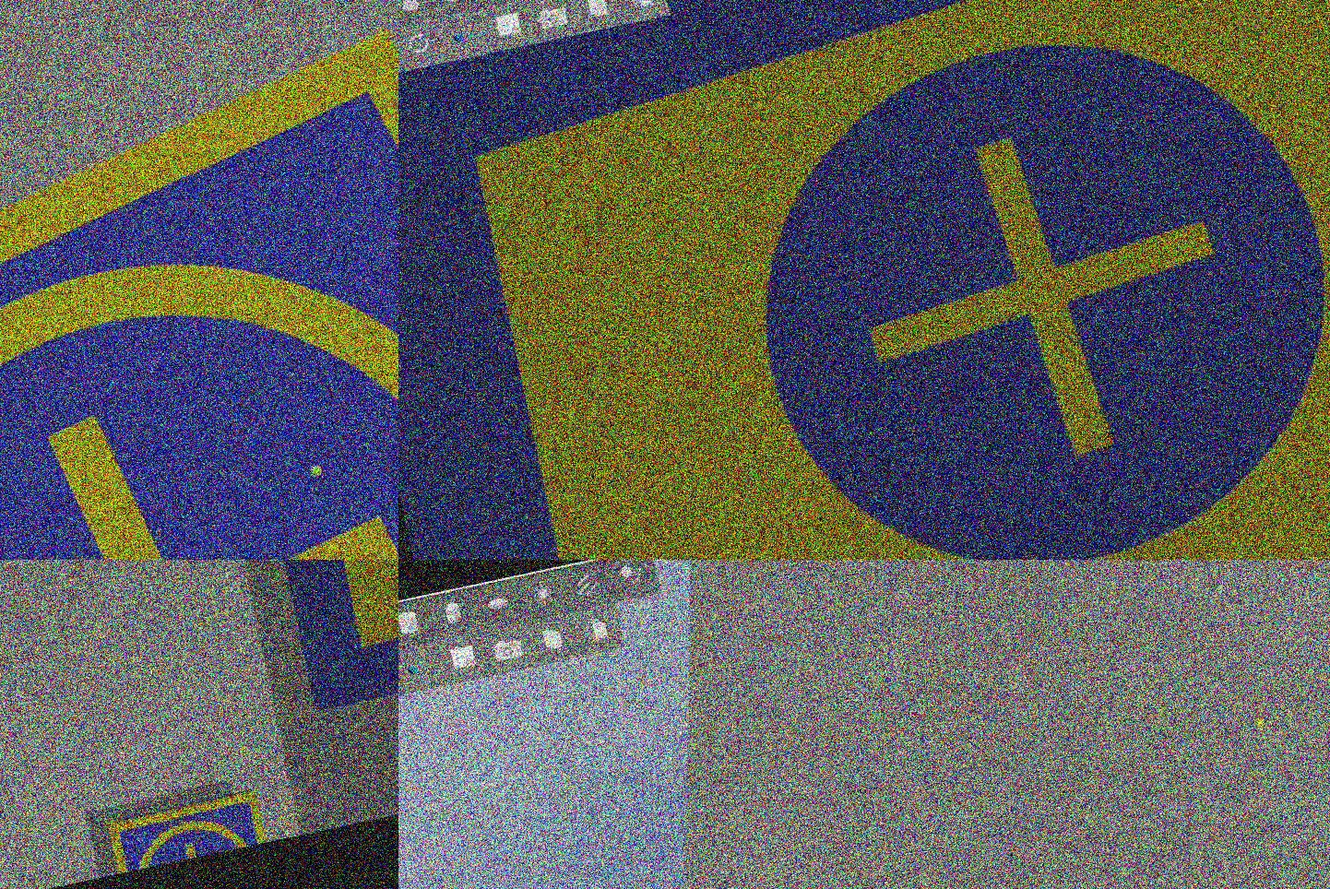large_base: (398, 1, 1330, 561), (220, 561, 398, 714)
small_base: (1, 1, 398, 561), (107, 789, 269, 878)
